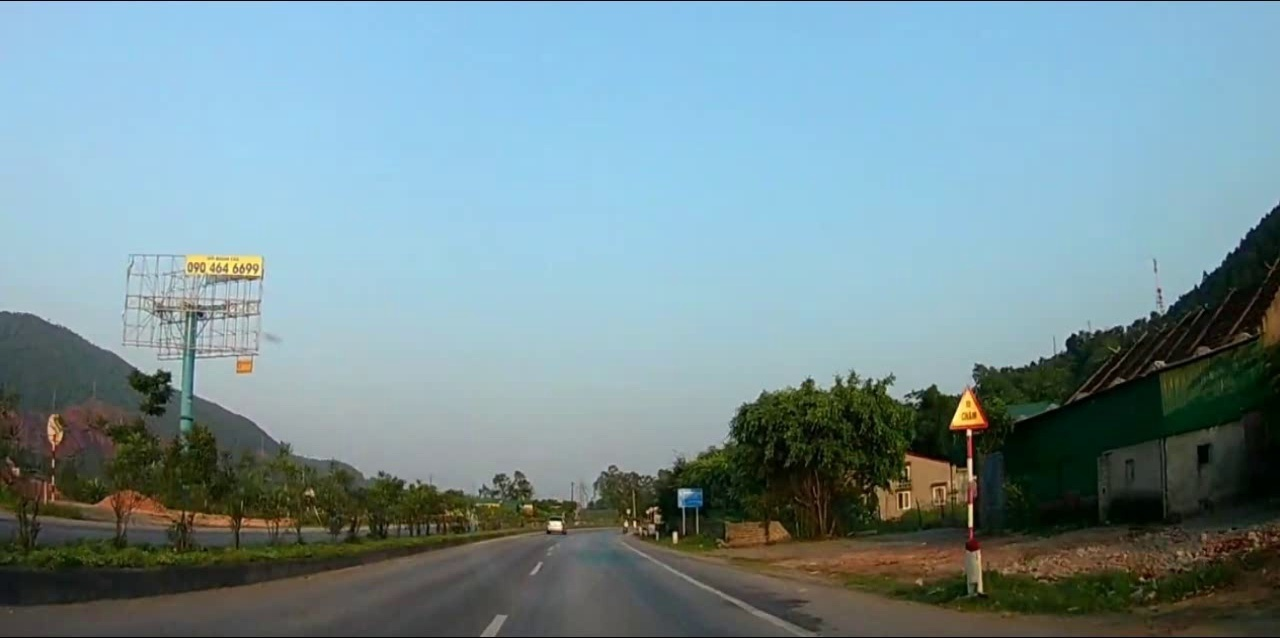Bien khac: (942, 381, 995, 434)
